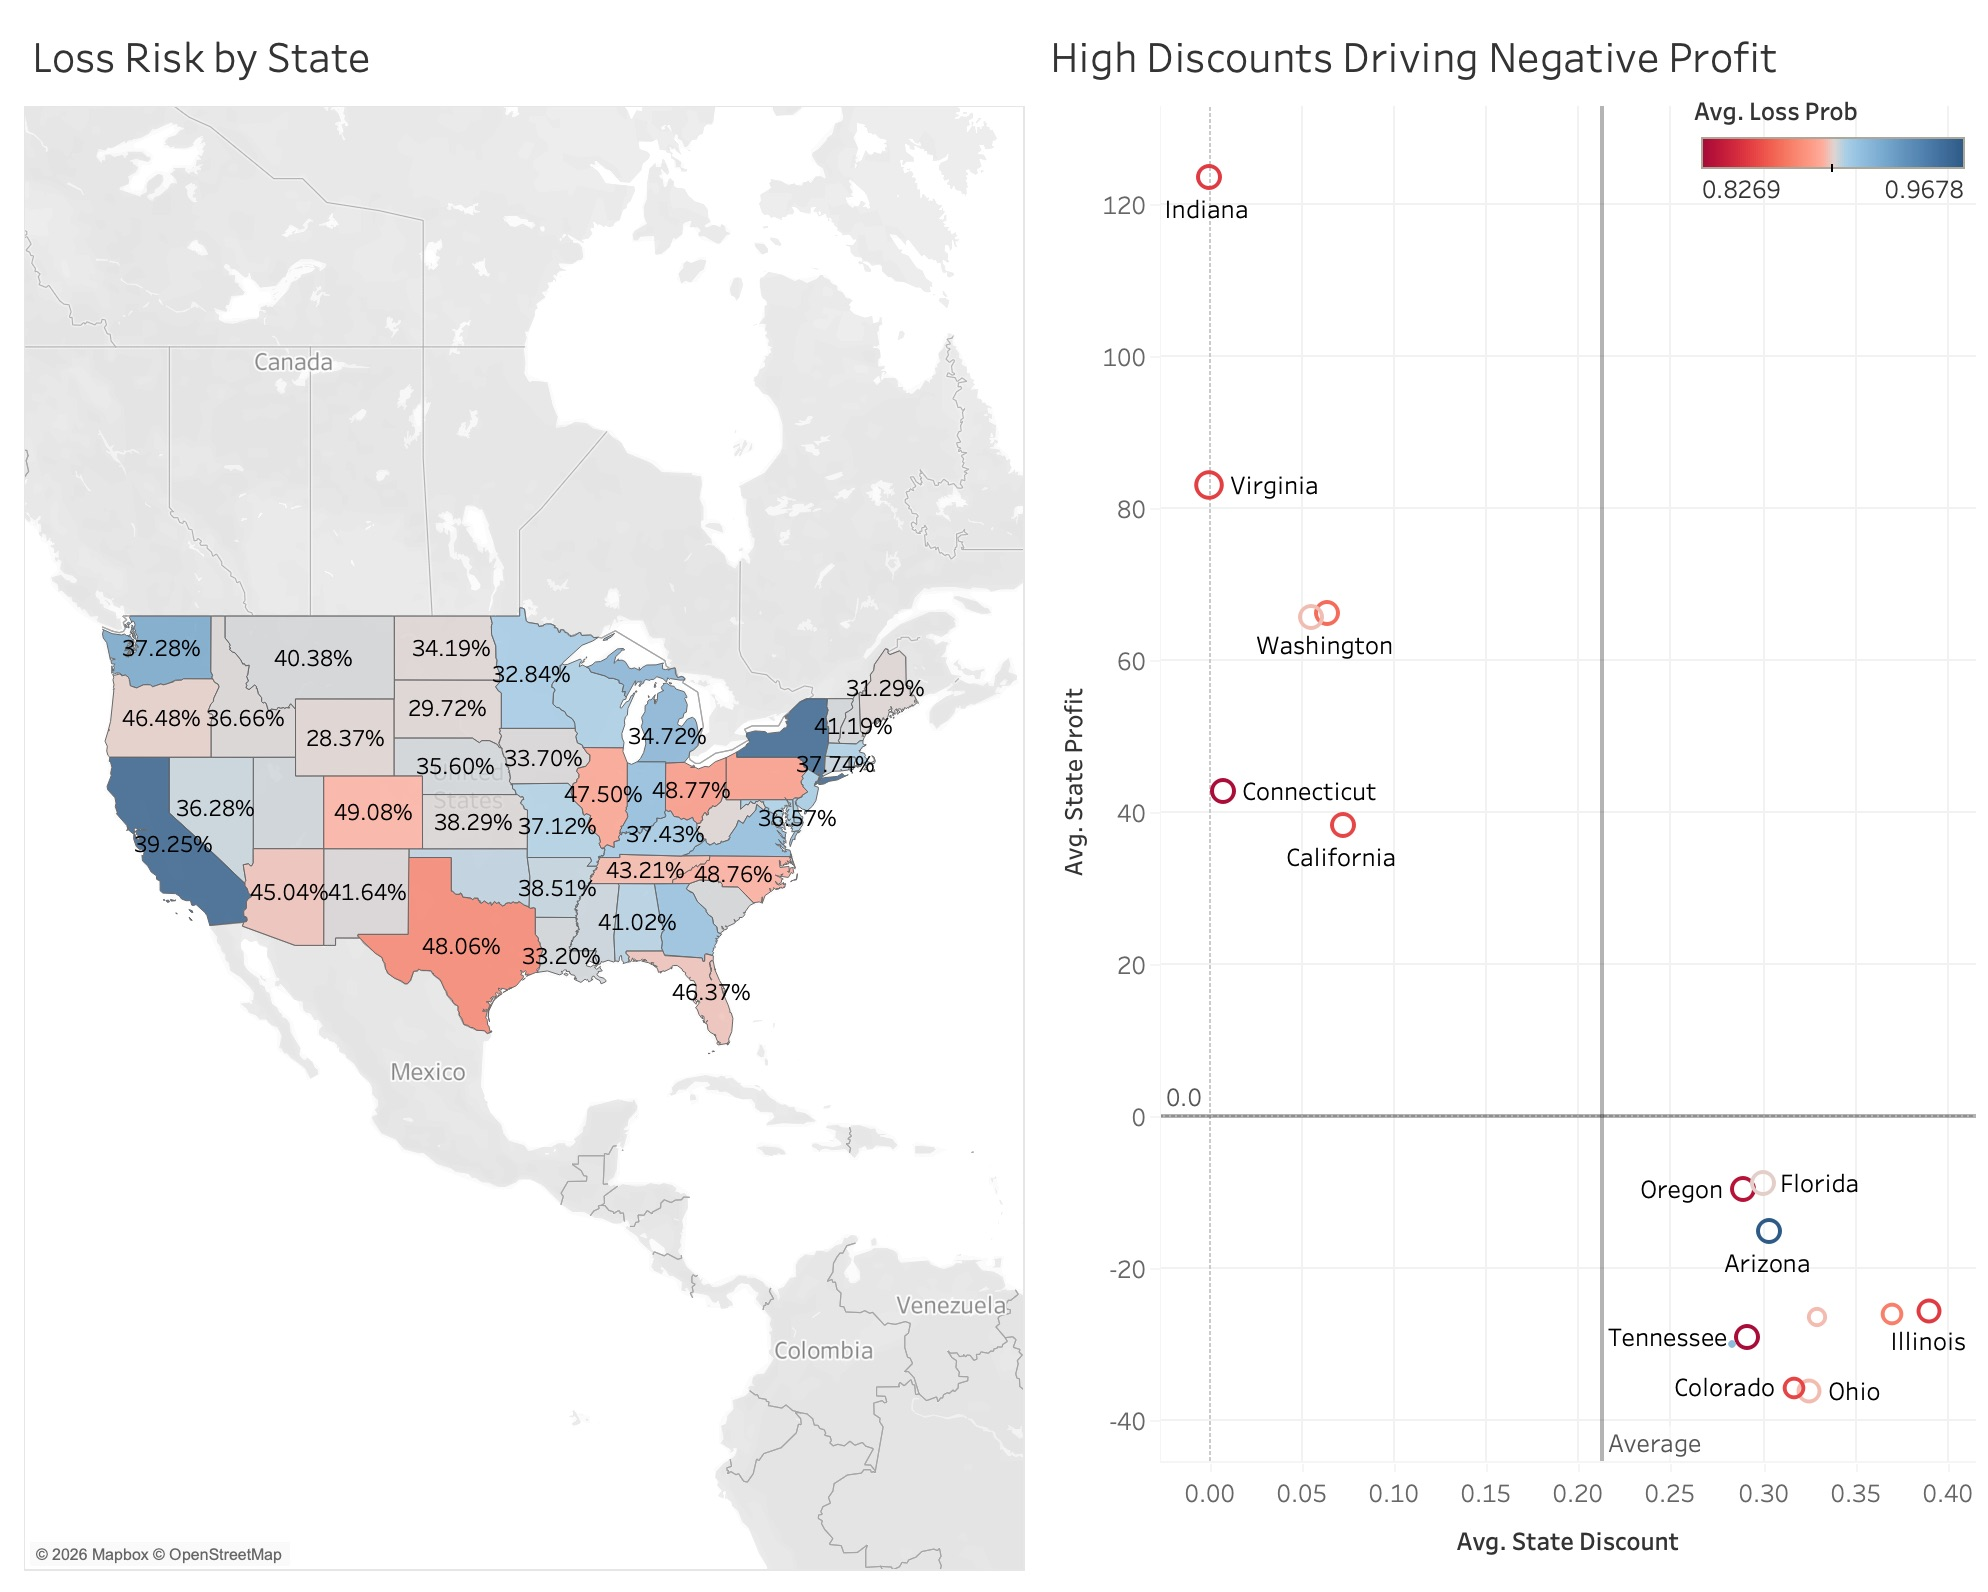

What the dashboard file says about the page in this screenshot:
{"tool":"tableau","page":{"name":"Discount-Driven Losses: Identifying High-Risk States","canvas":[1000,800],"ordinal":0},"visuals":[{"type":"worksheet","title":"Loss Risk by State","mark":"Automatic","box":[8,8,508.5,784]},{"type":"worksheet","title":"High Discounts Driving Negative Profit","mark":"Automatic","rows":["Calculation_0337342483099660"],"cols":["Calculation_0337342483206157"],"box":[516.5,8,475.5,784]},{"type":"legend","title":"High Discounts Driving Negative Profit","param":"[federated.0sp5ixw01f7c5i11xtmx0128cif8].[avg:Loss_Prob:qk]","box":[847,49,140,76]}]}

Visuals, with their boxes in screenshot pixels (x1, y1, x2, y2), scaled from the page's 1000x800 canvas onto the 1988x1592 screenshot:
"Loss Risk by State" worksheet: l=16, t=16, r=1027, b=1576
"High Discounts Driving Negative Profit" worksheet: l=1027, t=16, r=1972, b=1576
"High Discounts Driving Negative Profit" legend: l=1684, t=98, r=1962, b=249
